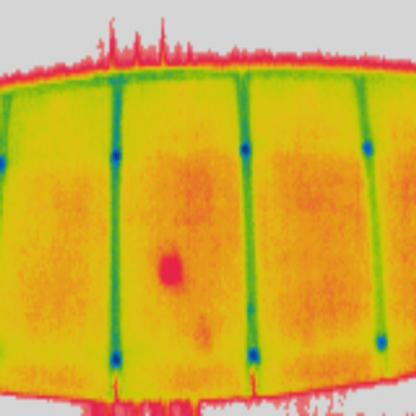Defects: (155, 256, 188, 288)
